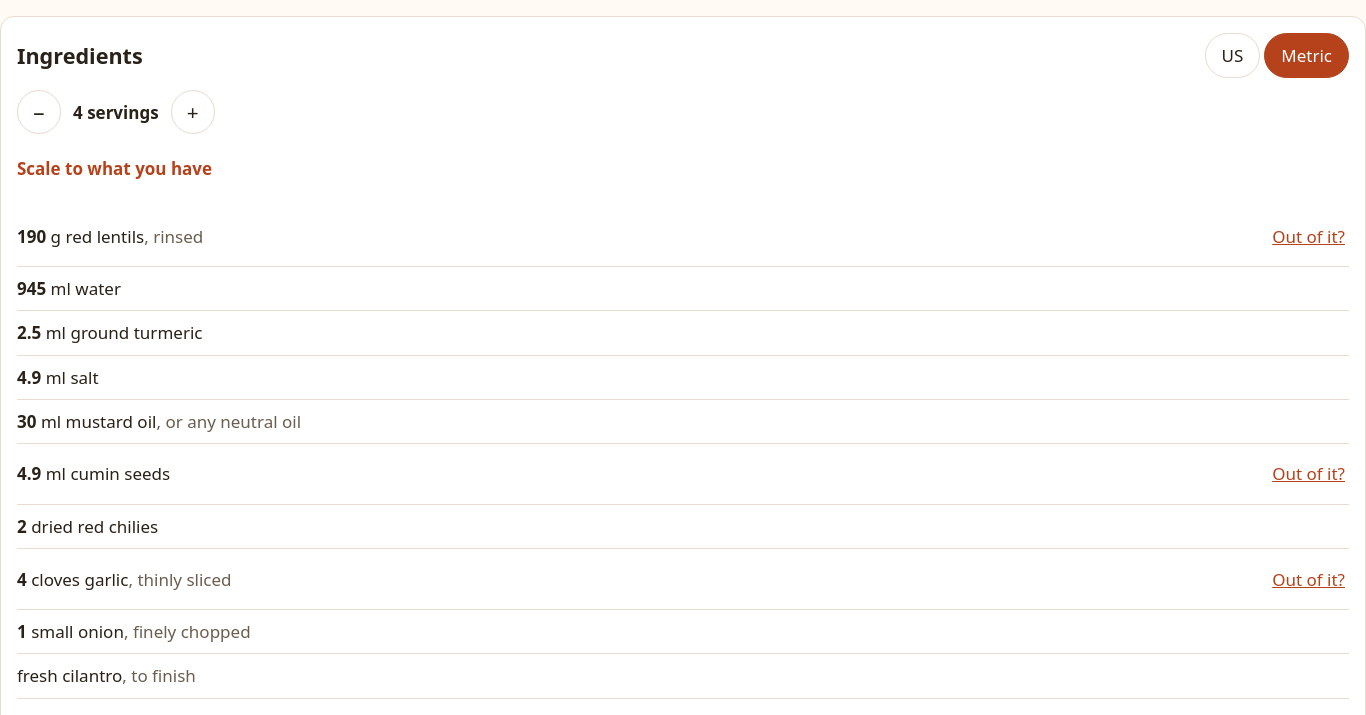
it: Scale to what you have › suggests grams when the site is in metric
Click the heading "Scale to what you have" at (115, 168), box x1=17 y1=157 x2=212 y2=180
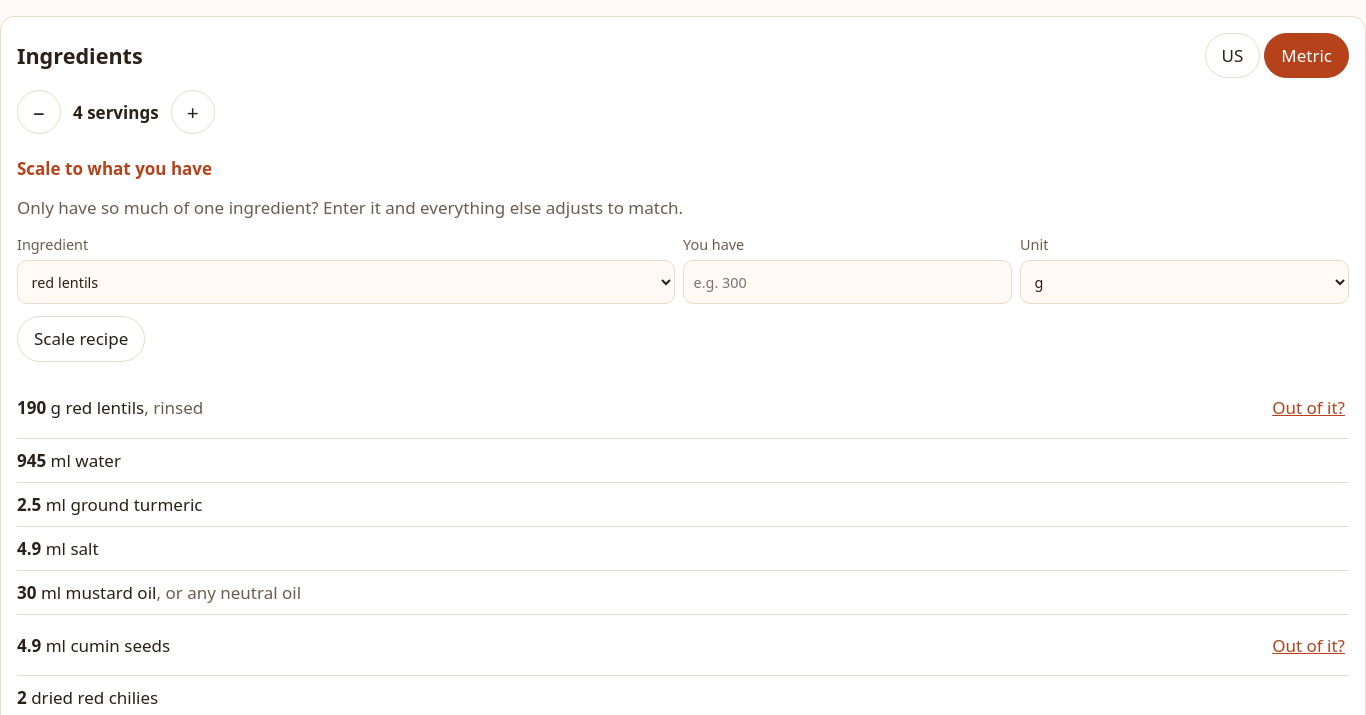
Expected: the dropdown labelled "Unit" shows "g", x1=1020 y1=260 x2=1349 y2=304
